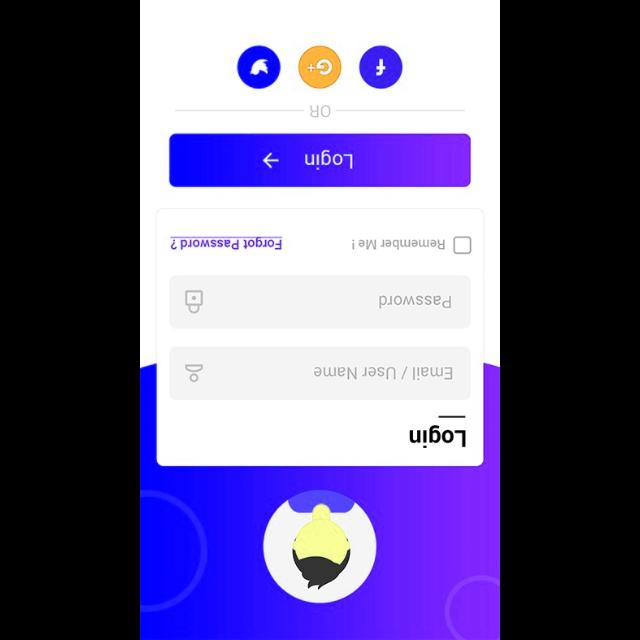checkbox: (455, 238, 471, 255)
icon: (358, 45, 402, 89), (237, 45, 280, 89), (298, 45, 340, 89), (185, 290, 203, 314), (185, 364, 203, 382)
image: (262, 488, 376, 604)
input: (168, 346, 470, 400), (170, 276, 470, 328)
text: (313, 366, 452, 380), (170, 237, 282, 250), (409, 425, 465, 447), (352, 238, 444, 250), (378, 294, 450, 308), (308, 104, 330, 118)
textbutton: (168, 133, 470, 187)
